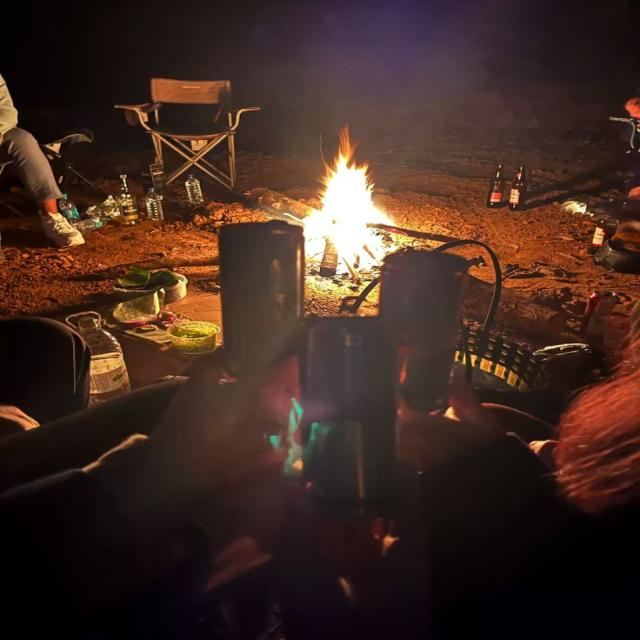fire: (305, 126, 398, 275)
